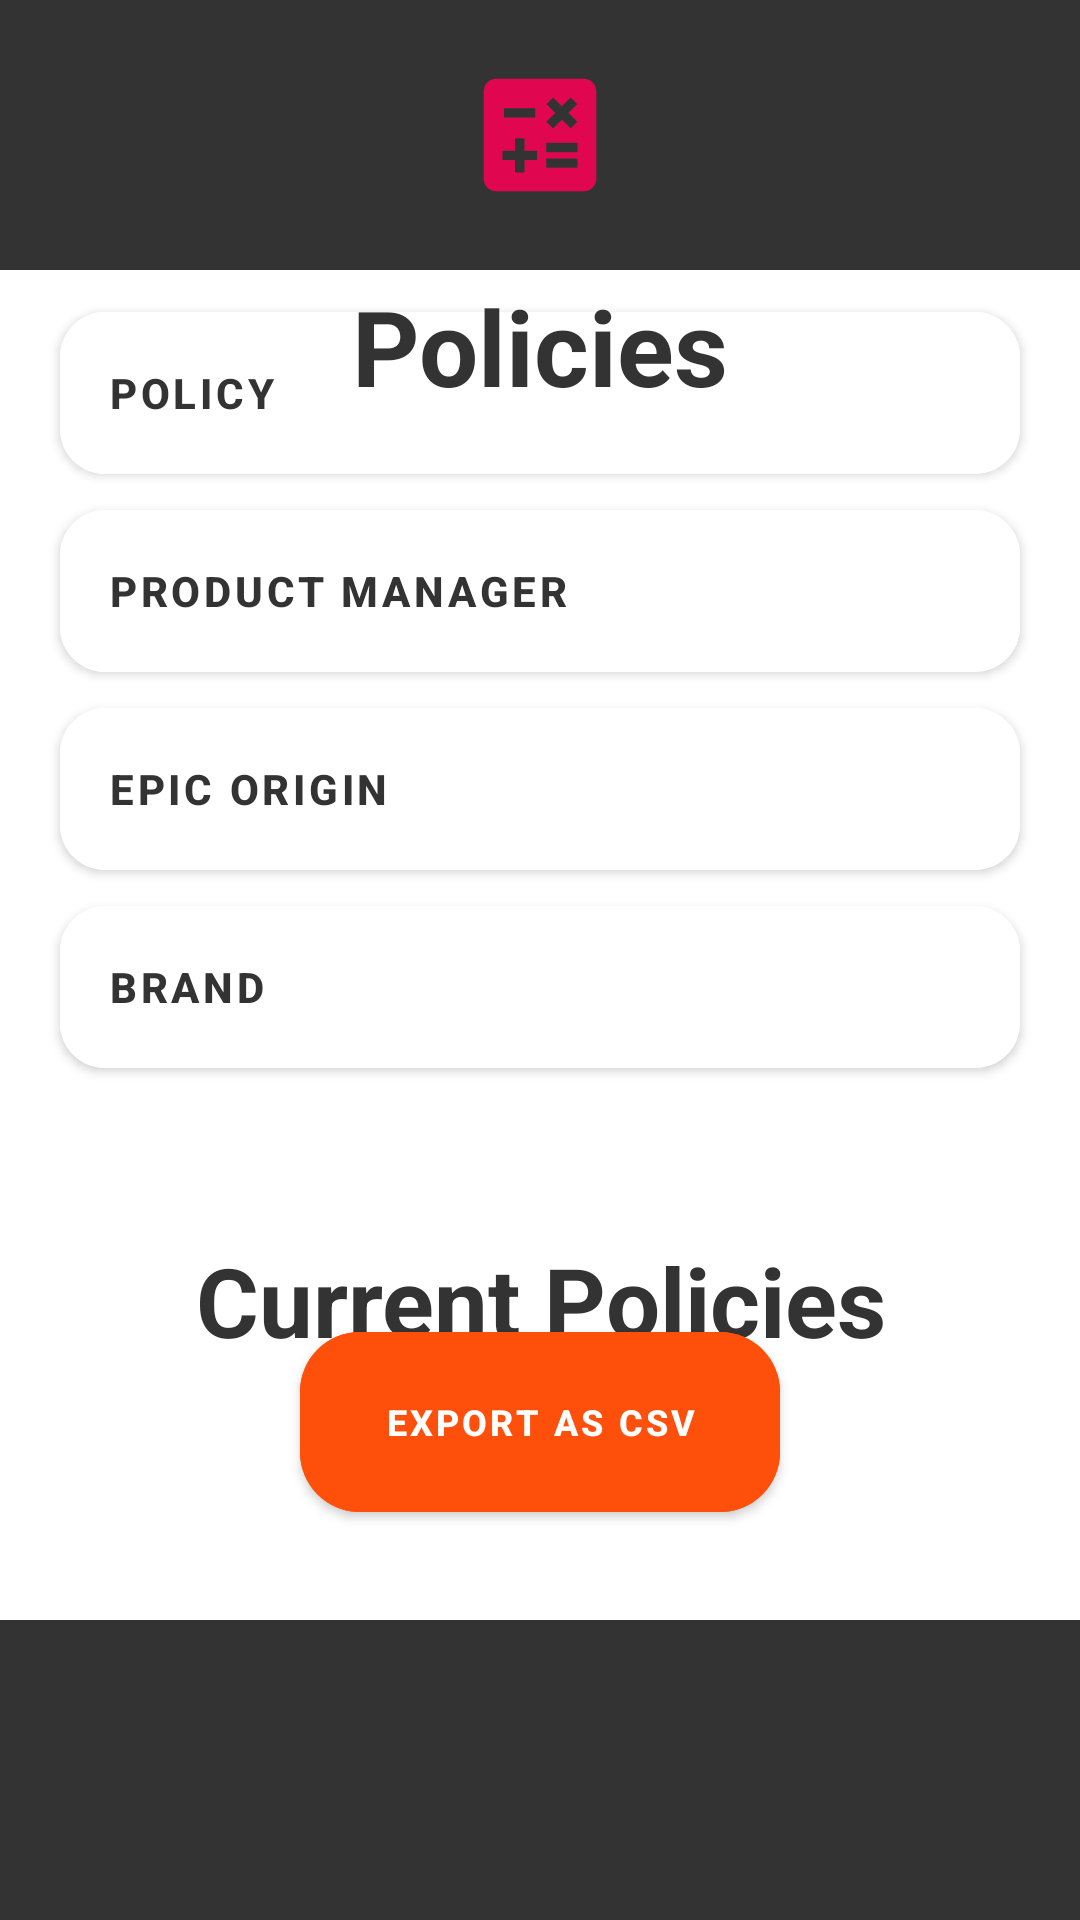

Icons on this 1080 x 1920 Android screen, each with the point to tap as point (x, y):
calculate: point (540, 135)
